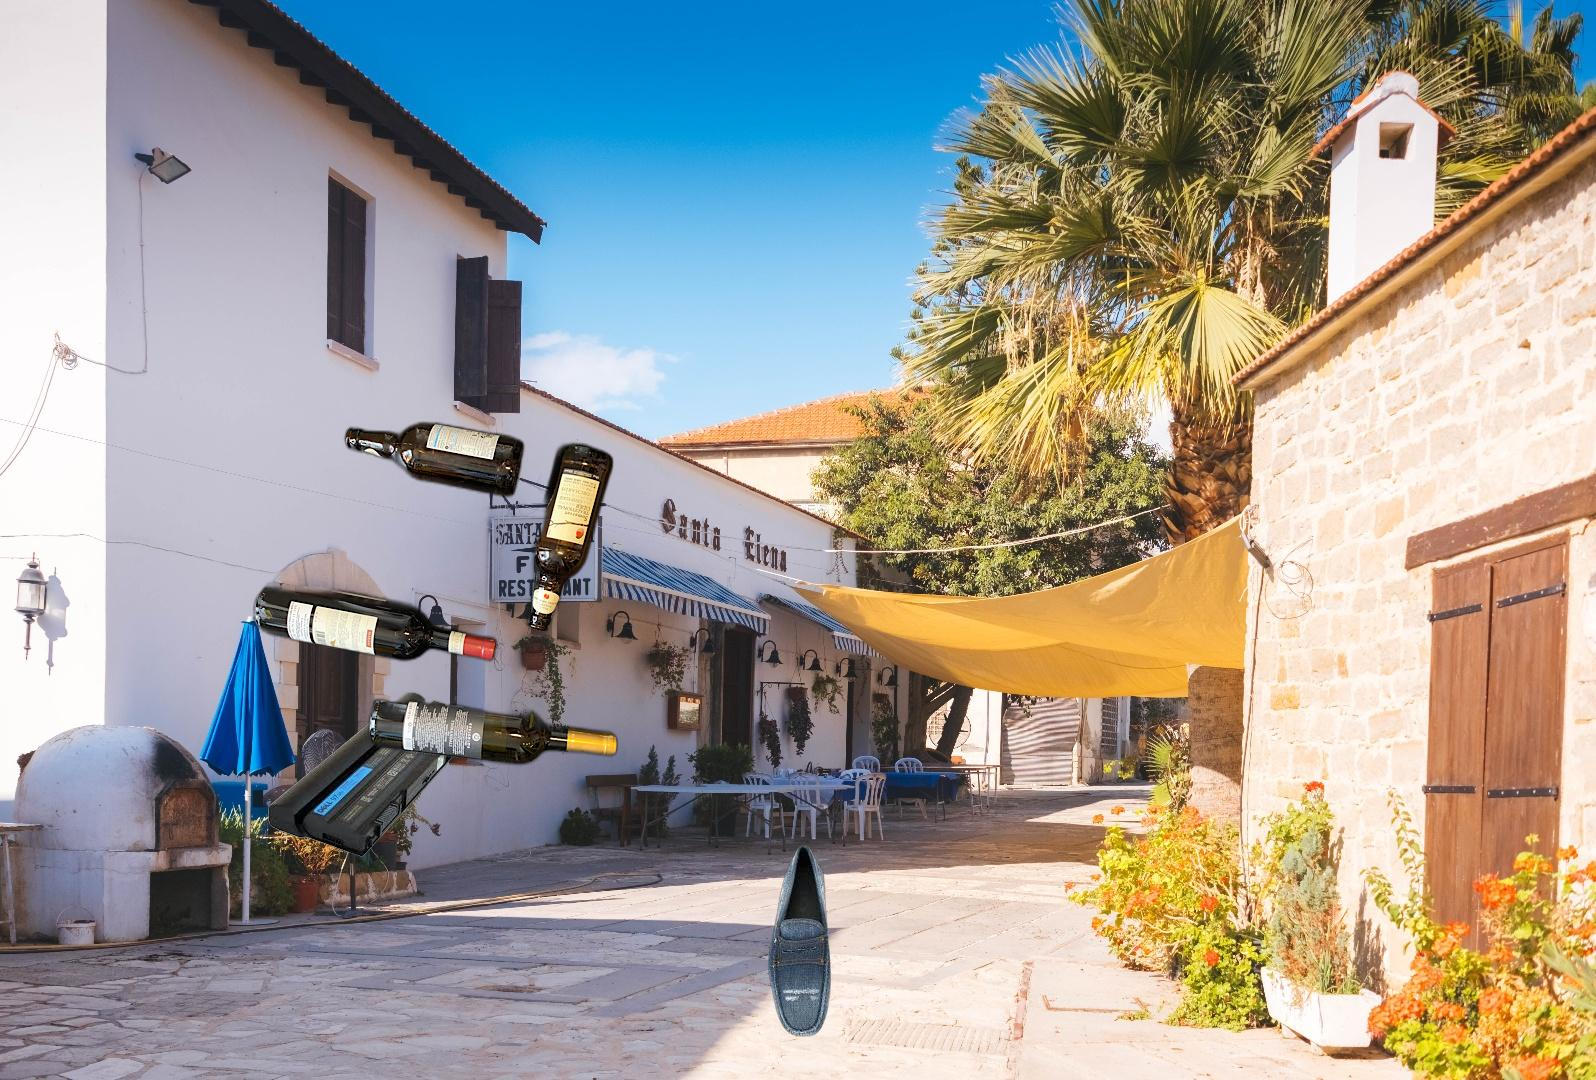battery: (265, 689, 479, 859)
glass: (250, 416, 621, 771)
shoes: (765, 843, 833, 1039)
